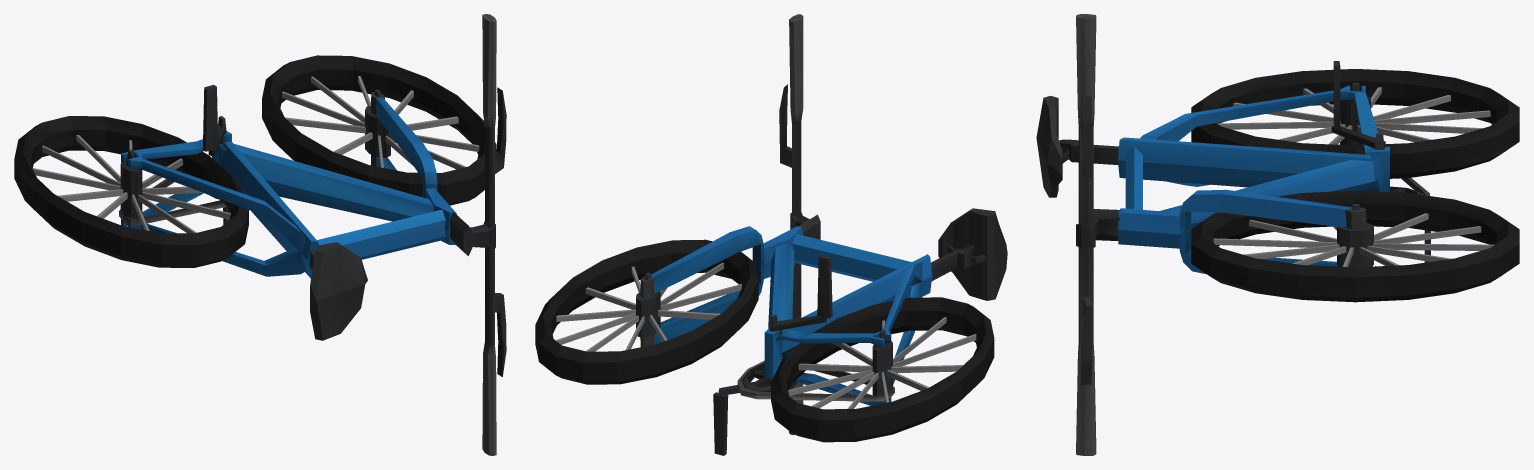
The model's file is bicycle.glb.
3 renders of one model, left to right at view 1: azimuth 30°, elevation 25°; view 2: azimuth 150°, elevation 25°; view 3: azimuth 270°, elevation 25°, orthographic. The views are drawn at different scales.
Visible parts, largest first — view 1: vehicle/bicycle; view 2: vehicle/bicycle; view 3: vehicle/bicycle.
Part boxes in pixels (x1,y1,x2,y2): vehicle/bicycle: (14, 14, 506, 455); vehicle/bicycle: (535, 14, 1007, 455); vehicle/bicycle: (1036, 14, 1519, 455).
Bounding box in the file's own units: 1 × 1 × 1.
